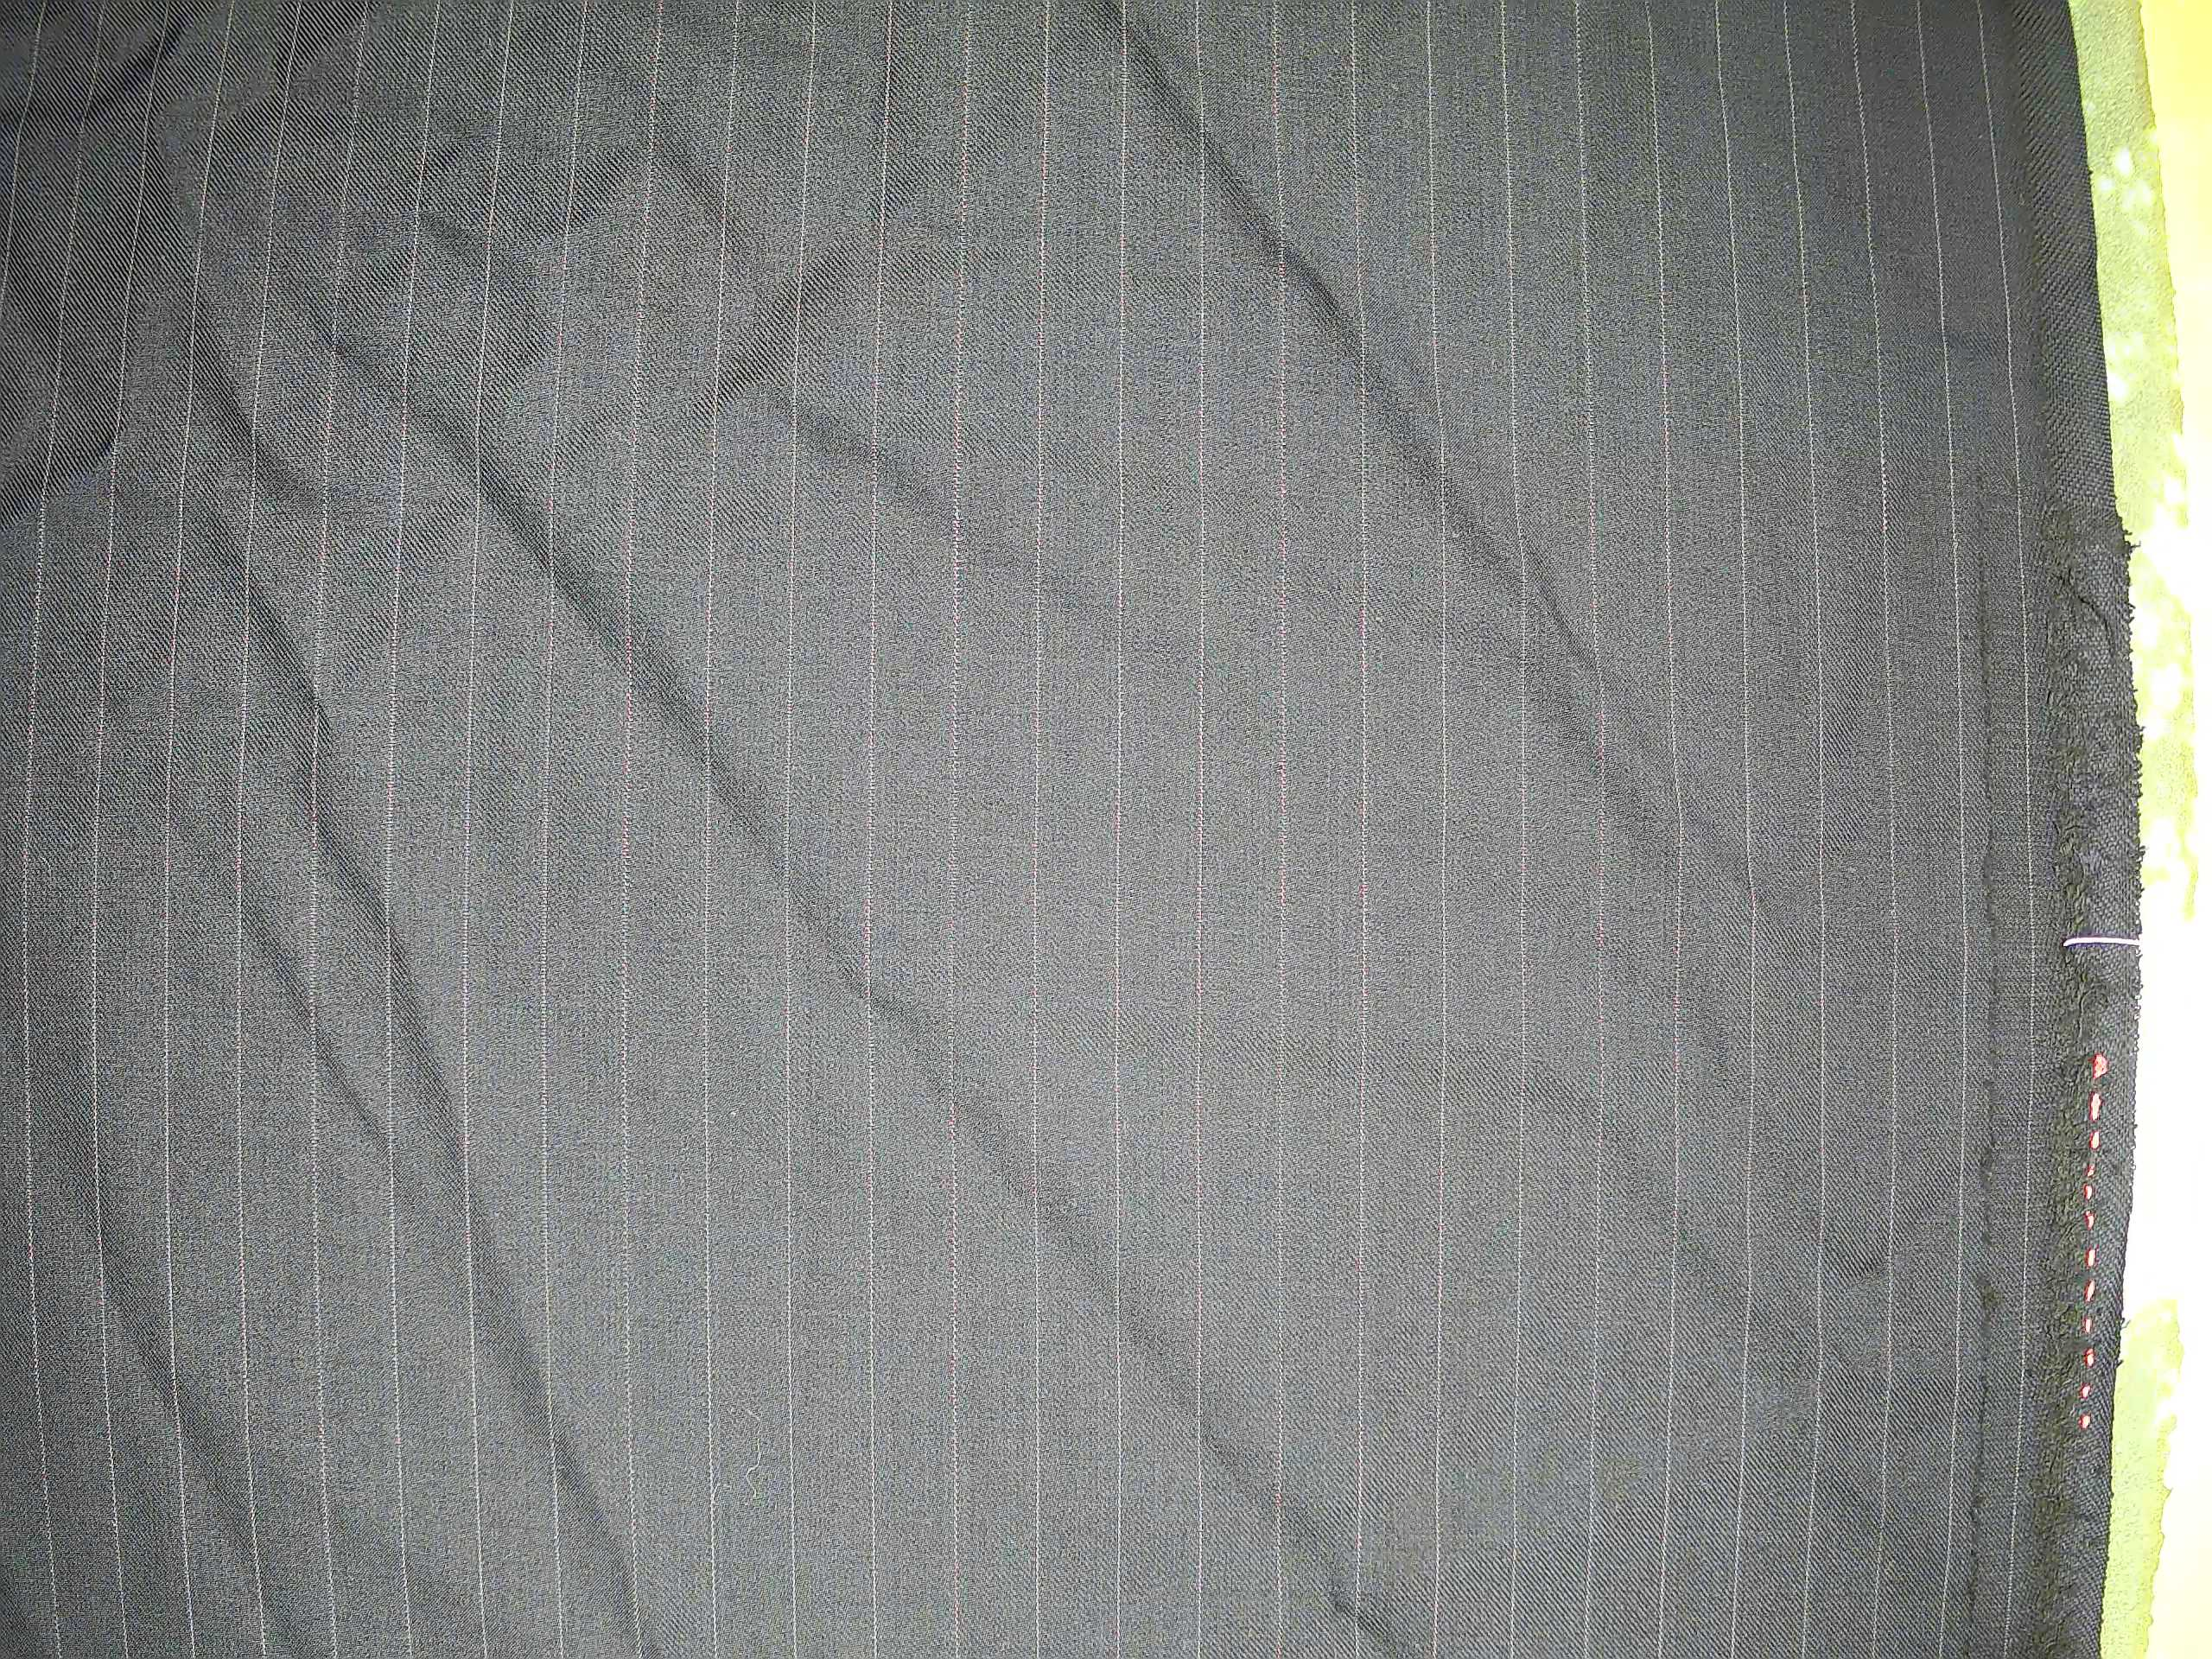others: (1958, 538, 2008, 1649)
